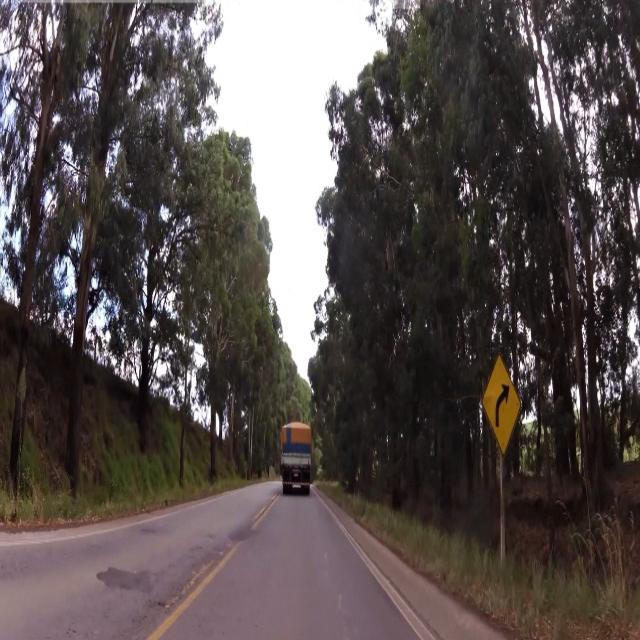A-2b: (481, 351, 523, 456)
